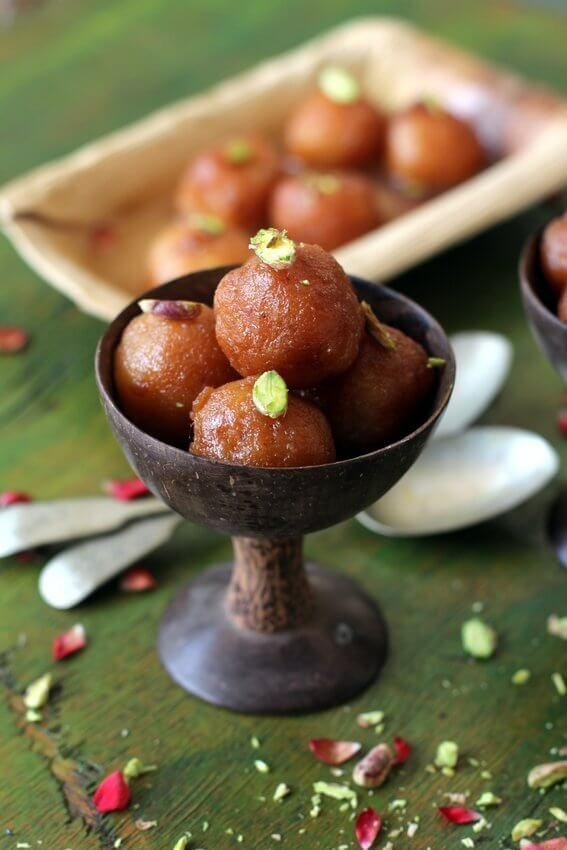GulabJamun: (214, 225, 360, 389), (321, 302, 440, 432), (111, 297, 231, 414), (186, 376, 334, 470), (287, 70, 386, 176), (175, 140, 283, 236), (390, 97, 486, 196), (270, 172, 384, 249), (146, 224, 253, 286), (544, 210, 567, 281)
